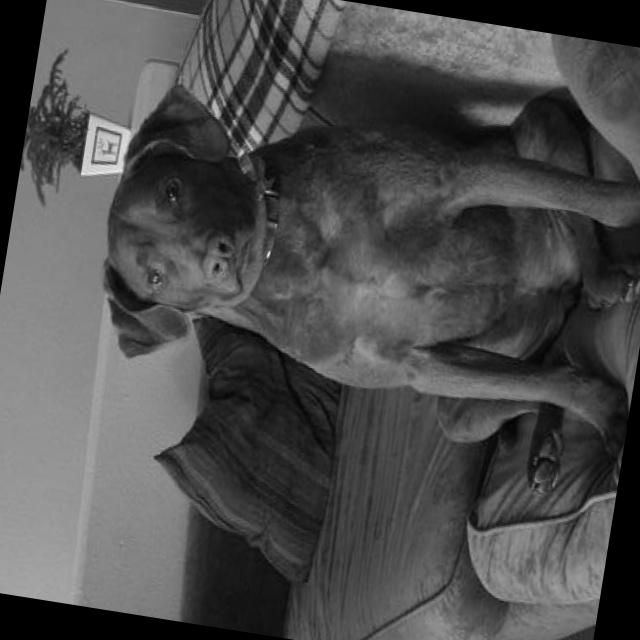sitting: (68, 20, 640, 512)
